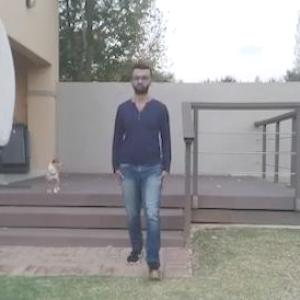follow: (119, 58, 174, 275)
